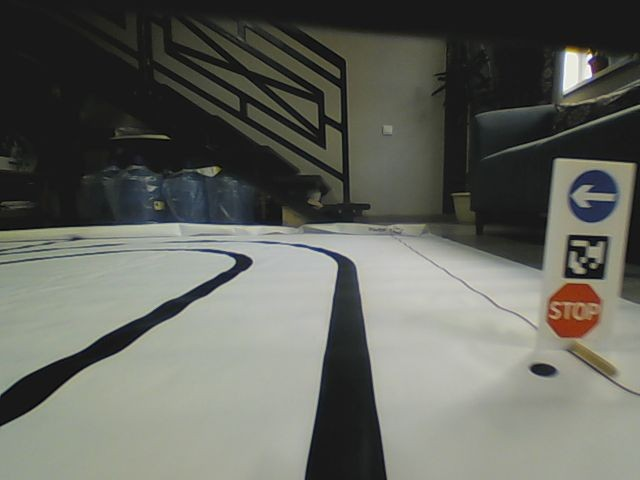Stop: (545, 281, 604, 338)
